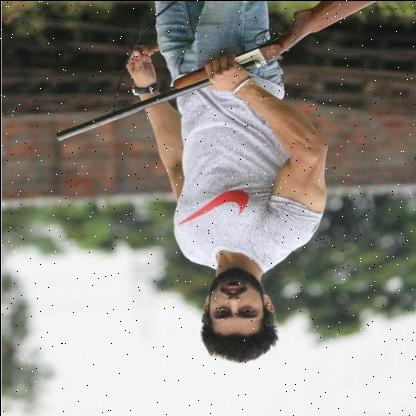rifle: (52, 0, 376, 142)
